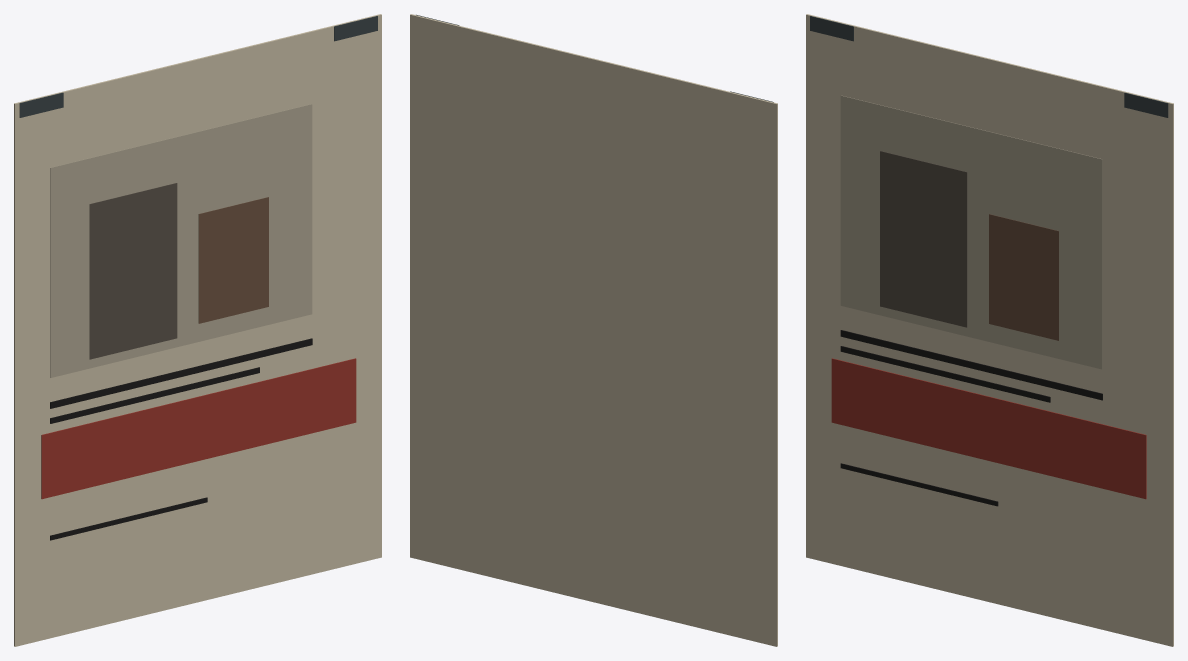
Rendered from poster-a2.glb.
3 views of the same model, side by side, from view 1: azimuth 30°, elevation 25°; view 2: azimuth 150°, elevation 25°; view 3: azimuth 330°, elevation 25° (orthographic).
Visible parts, largest first — view 1: paper, plastic-light, accent-warm, fabric, wood, rubber, glass; view 2: paper; view 3: paper, plastic-light, accent-warm, fabric, wood, rubber, glass.
Part boxes in pixels (bbox=[...]): paper: bbox=[14, 14, 381, 646]; plastic-light: bbox=[50, 104, 312, 377]; accent-warm: bbox=[41, 358, 356, 499]; fabric: bbox=[89, 183, 177, 359]; wood: bbox=[198, 197, 268, 323]; rubber: bbox=[50, 338, 312, 540]; glass: bbox=[19, 16, 377, 117]; paper: bbox=[410, 14, 777, 646]; paper: bbox=[806, 14, 1173, 646]; plastic-light: bbox=[840, 95, 1102, 369]; accent-warm: bbox=[831, 358, 1146, 499]; fabric: bbox=[880, 151, 967, 327]; wood: bbox=[989, 214, 1058, 340]; rubber: bbox=[840, 330, 1102, 506]; glass: bbox=[810, 16, 1168, 117].
Size of the model in its own units: 0.42 by 0.594 by 0.003.
